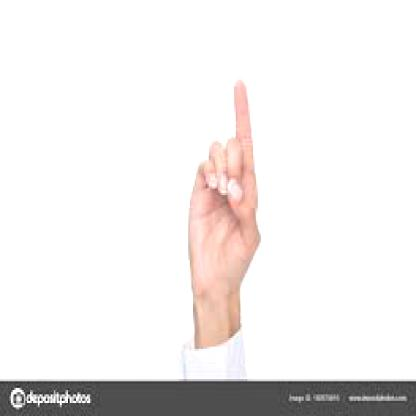Up: (172, 72, 271, 291)
